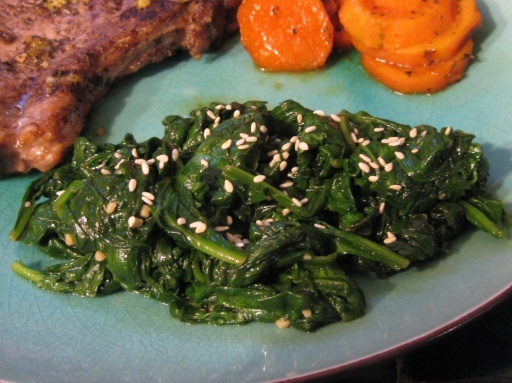background: (0, 0, 410, 200)
